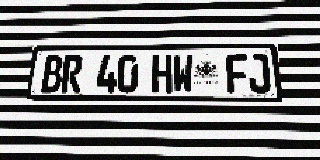0: (117, 55, 138, 93)
4: (96, 55, 118, 93)
B: (41, 56, 63, 93)
F: (226, 54, 249, 93)
H: (152, 55, 172, 93)
J: (247, 54, 271, 93)
R: (61, 56, 83, 93)
W: (173, 55, 193, 93)
